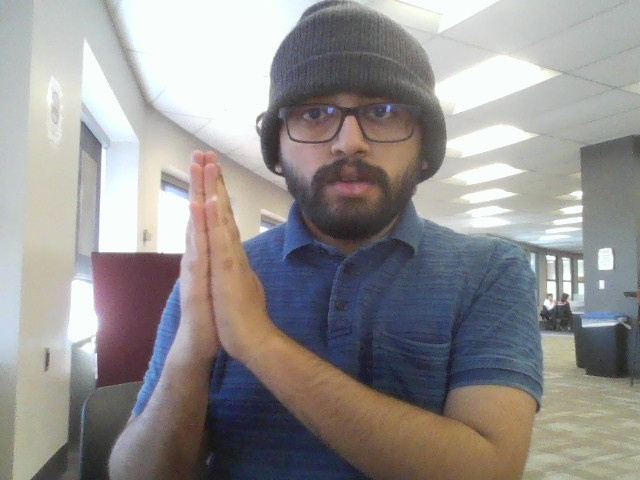start: (158, 146, 289, 388)
